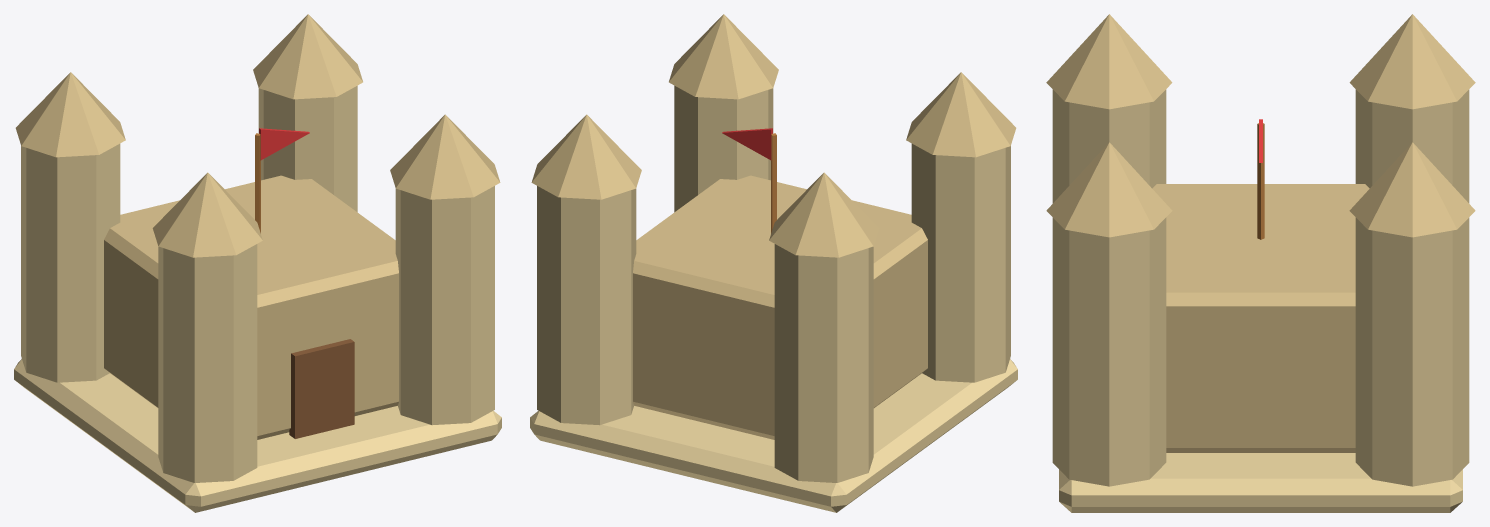
The model's file is SandCastle.fbx.
3 views of the same model, side by side, from view 1: azimuth 30°, elevation 25°; view 2: azimuth 150°, elevation 25°; view 3: azimuth 270°, elevation 25° (orthographic). The views are drawn at different scales.
Parts seen in each view (by area): view 1: SandCastle; view 2: SandCastle; view 3: SandCastle.
Boxes of the visible parts, <box> form: SandCastle: <box>14,14,501,512</box>; SandCastle: <box>530,14,1017,512</box>; SandCastle: <box>1046,14,1475,512</box>.
Bounding box in the file's own units: 3.4 × 3.1 × 3.4.
1 material, 1 textured.
